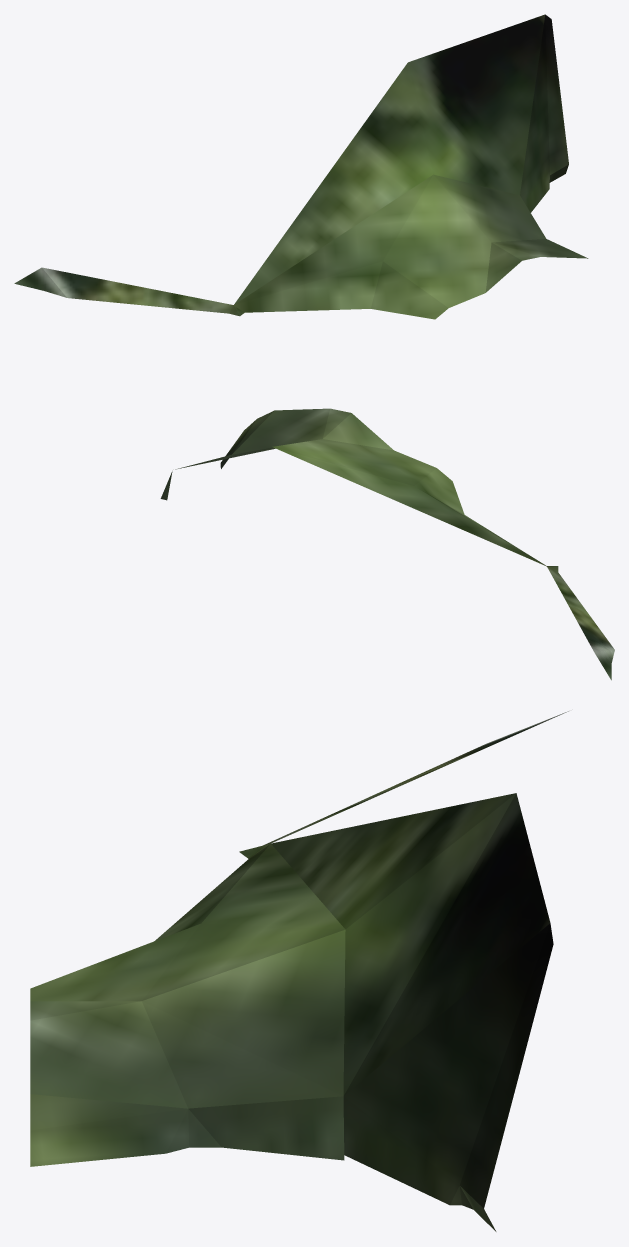
3 renders of one model, top to bottom at view 1: azimuth 30°, elevation 25°; view 2: azimuth 150°, elevation 25°; view 3: azimuth 270°, elevation 25°, orthographic. The views are drawn at different scales.
Size of the model in its own units: 16.6 by 4.56 by 7.76.
Materials: 1 (1 with a texture image).
